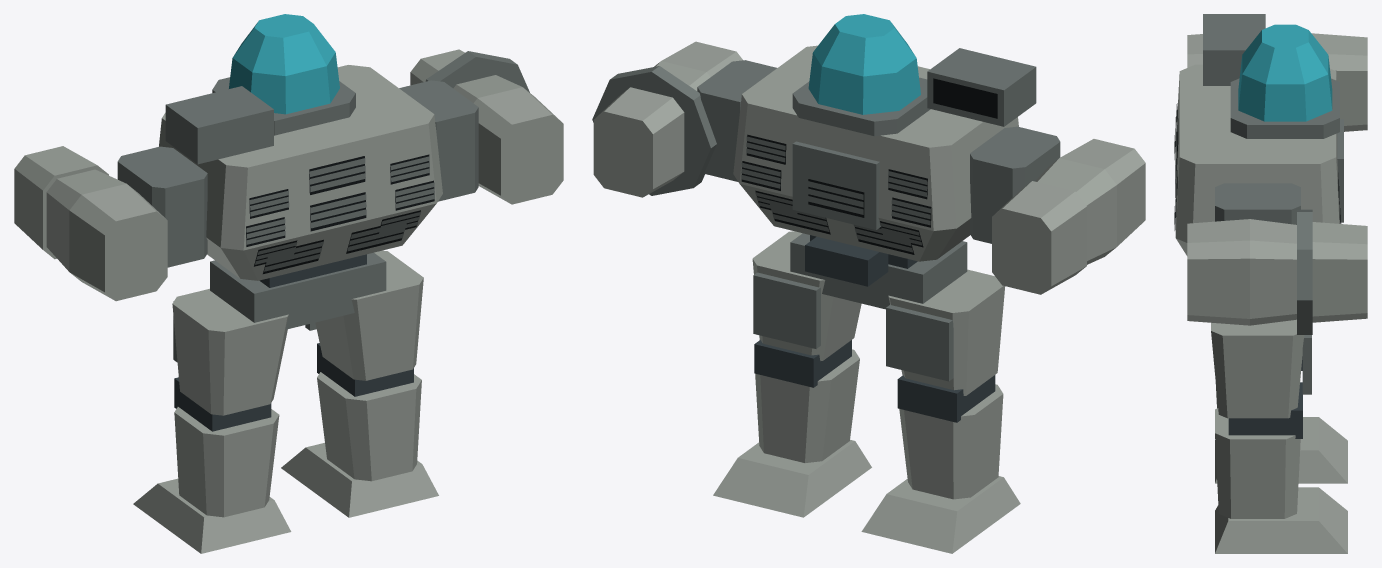
File: mackie.glb
The picture shows the model from 3 angles, left to right: view 1: azimuth 30°, elevation 25°; view 2: azimuth 150°, elevation 25°; view 3: azimuth 270°, elevation 25°; orthographic projection. The views are drawn at different scales.
Visible parts, largest first — view 1: LT, LA@elbow, RA@elbow, LL, LL-shin, HD, RL-shin, CT, RL, RT, pelvis, LA (+13 smaller); view 2: LT, HD, LL, CT, LL-shin, RL-shin, LA@wrist, RA@wrist, RL, LA@elbow, RL-foot, LL-foot (+12 smaller); view 3: RA@elbow, RT, HD, RL, RL-shin, RL-foot, RA@wrist, LT, LA@wrist, RA, LL-foot, CT (+1 smaller).
Part boxes in pixels (x1,y1,x2,y2): LT: (159, 86, 297, 287); LA@elbow: (46, 169, 167, 301); RA@elbow: (425, 51, 563, 204); LL: (172, 288, 288, 415); LL-shin: (174, 377, 279, 517); HD: (212, 14, 355, 135); RL-shin: (317, 343, 421, 481); CT: (274, 114, 382, 286); RL: (305, 250, 423, 380); RT: (337, 65, 442, 265); pelvis: (210, 252, 386, 329); LA: (117, 146, 207, 267); LT: (879, 48, 1036, 268); HD: (792, 14, 930, 136); LL: (886, 269, 1005, 395); CT: (792, 66, 929, 286); LL-shin: (897, 375, 1003, 499); RL-shin: (754, 340, 859, 462); LA@wrist: (992, 181, 1086, 294); RA@wrist: (593, 87, 684, 197); RL: (752, 231, 861, 360); LA@elbow: (1035, 139, 1145, 264); RL-foot: (713, 439, 871, 517); LL-foot: (861, 476, 1020, 553); RA@elbow: (1187, 209, 1312, 334); RT: (1175, 134, 1339, 255); HD: (1230, 24, 1339, 138); RL: (1211, 319, 1311, 418); RL-shin: (1215, 382, 1302, 518); RL-foot: (1215, 487, 1347, 553); RA@wrist: (1312, 222, 1367, 322); LT: (1175, 14, 1336, 164); LA@wrist: (1311, 33, 1367, 131); RA: (1215, 183, 1300, 224); LL-foot: (1215, 417, 1347, 483); CT: (1175, 94, 1343, 222).
Size of the model in its own units: 57.67 by 53.17 by 20.17.
